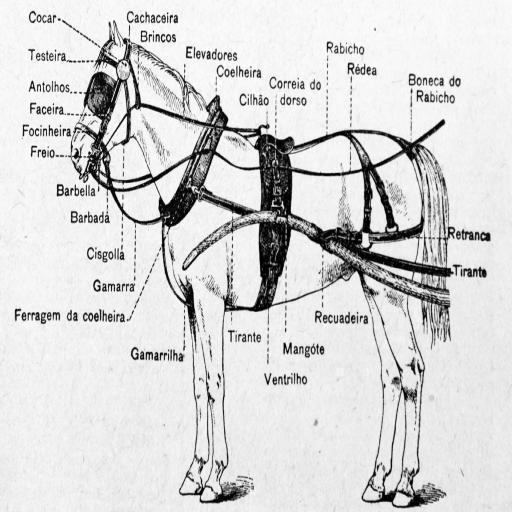horse: (70, 15, 454, 510)
